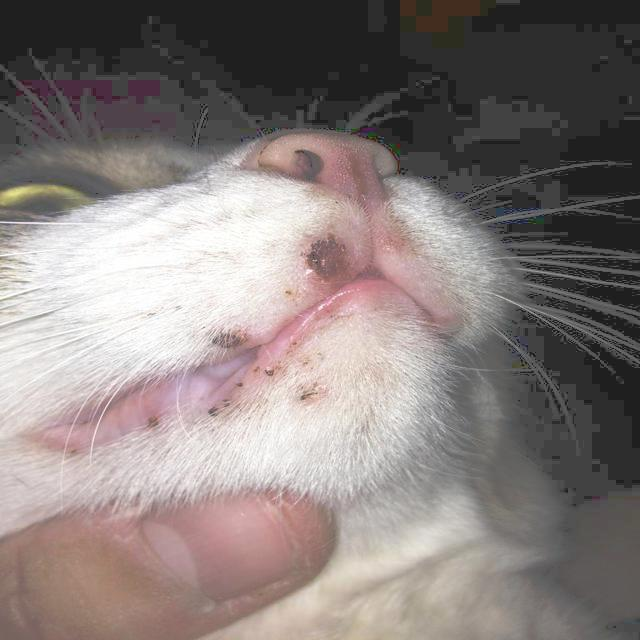acne: (210, 328, 250, 349), (296, 384, 324, 411)
